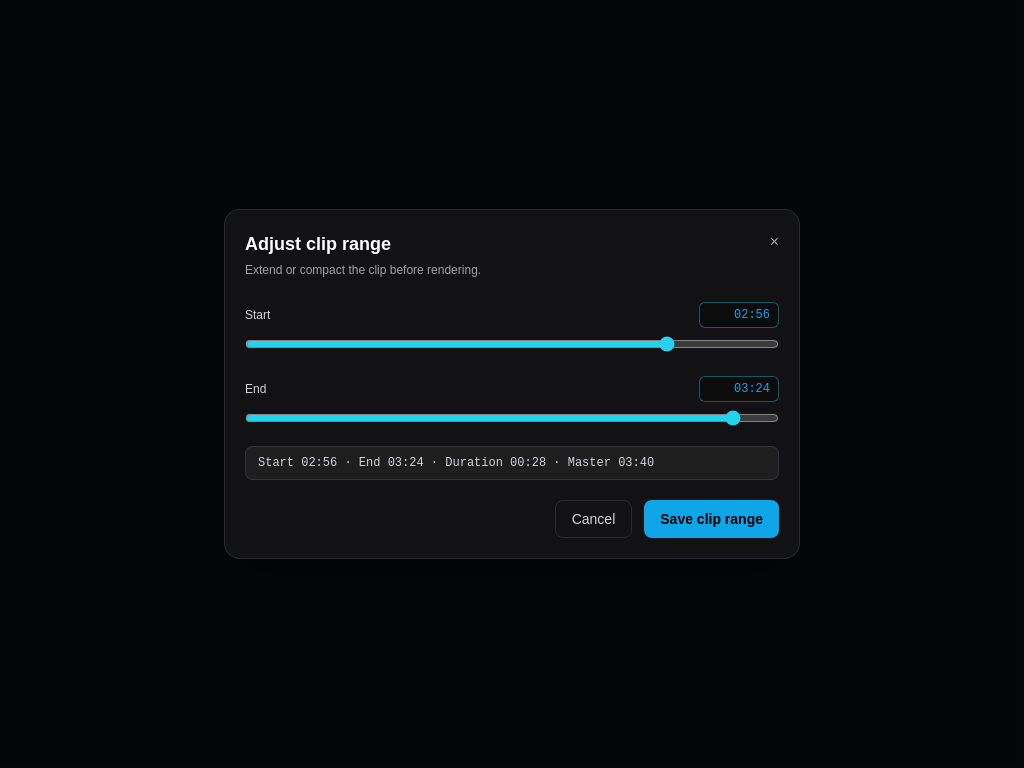
Test: ClipSourceRangeEditor › keeps the range inside the master and preserves a one-second minimum
The width and height of the screenshot is (1024, 768).
Set the slider with test id "clip-range-end" to "176" at (667, 418), box [245,410,779,426]
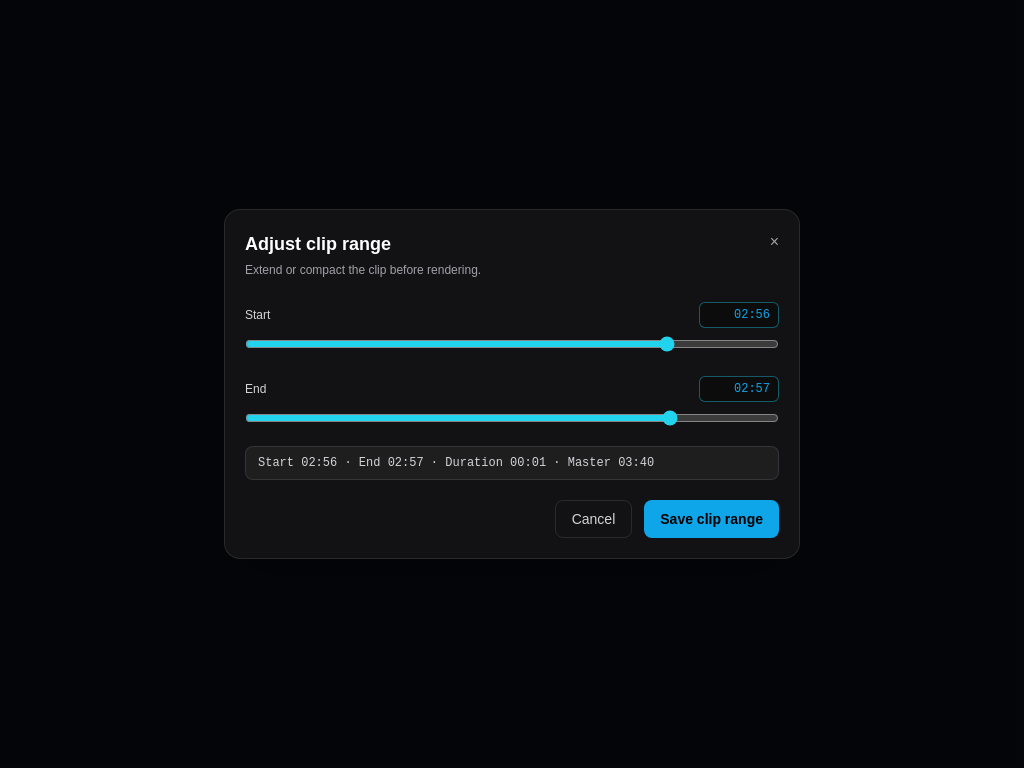
Result: the slider with test id "clip-range-end" holds "177"
Set the slider with test id "clip-range-end" to "220" at (771, 418), box [245,410,779,426]
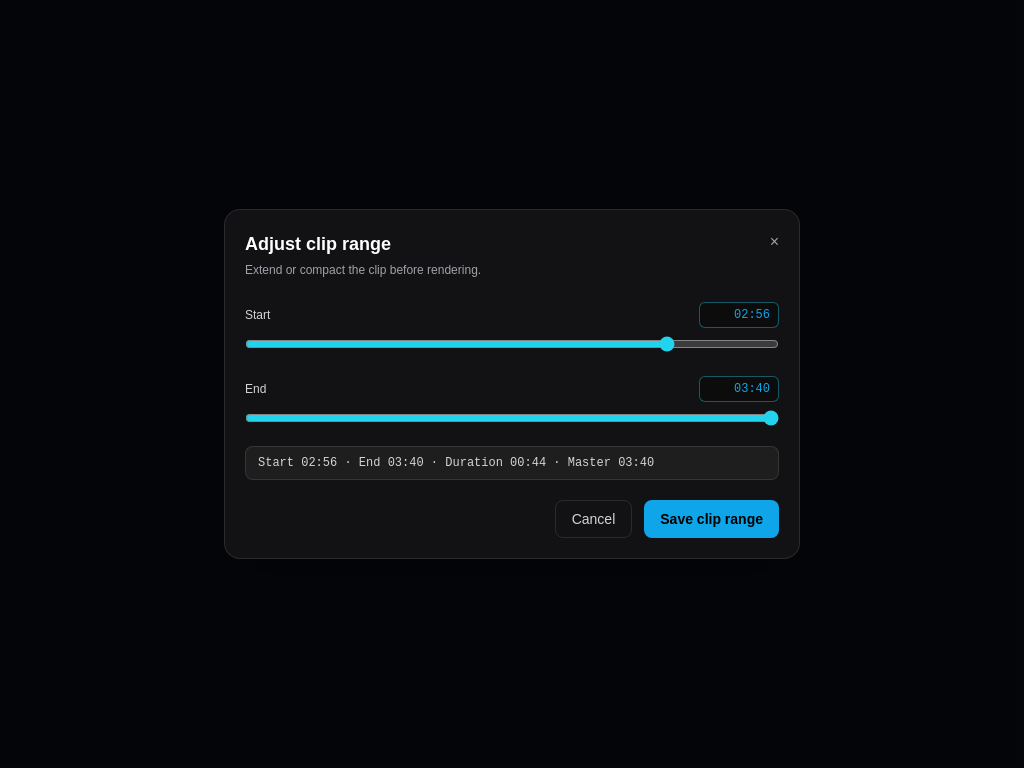
Set the slider with test id "clip-range-start" to "220" at (771, 344), box [245,336,779,352]
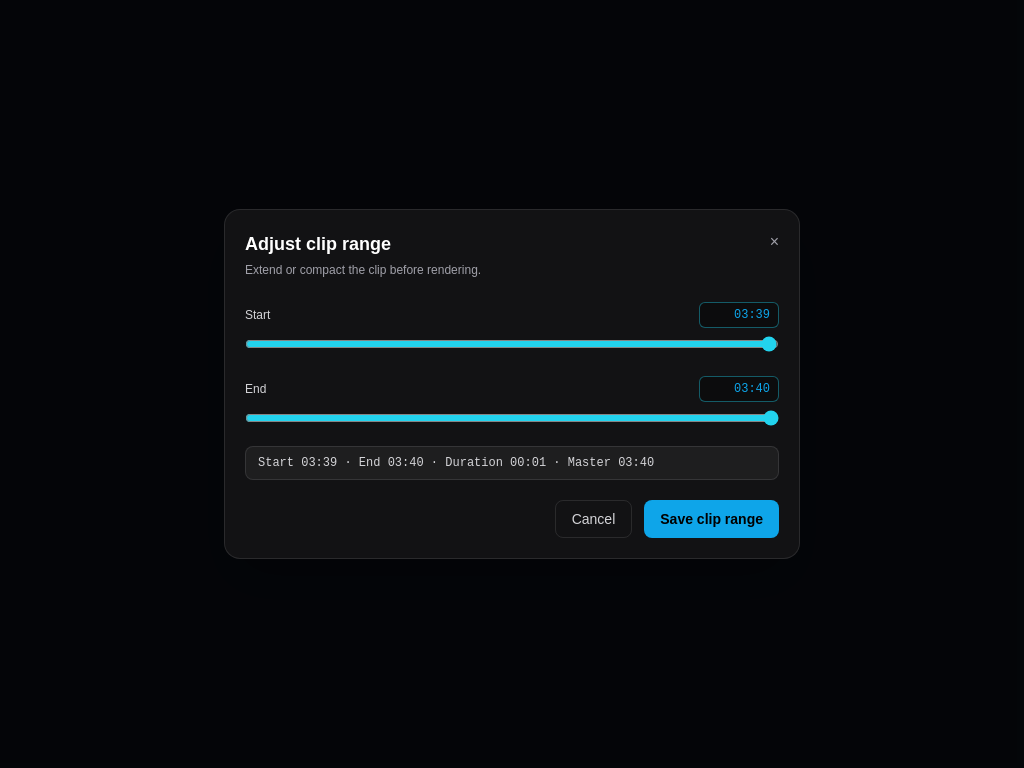
Result: the slider with test id "clip-range-start" holds "219" at [245,336,779,352]
